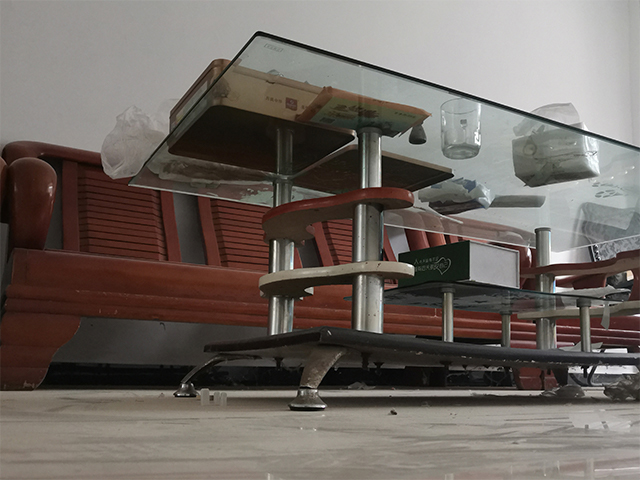stool: (1, 128, 194, 385)
table: (125, 34, 640, 420)
